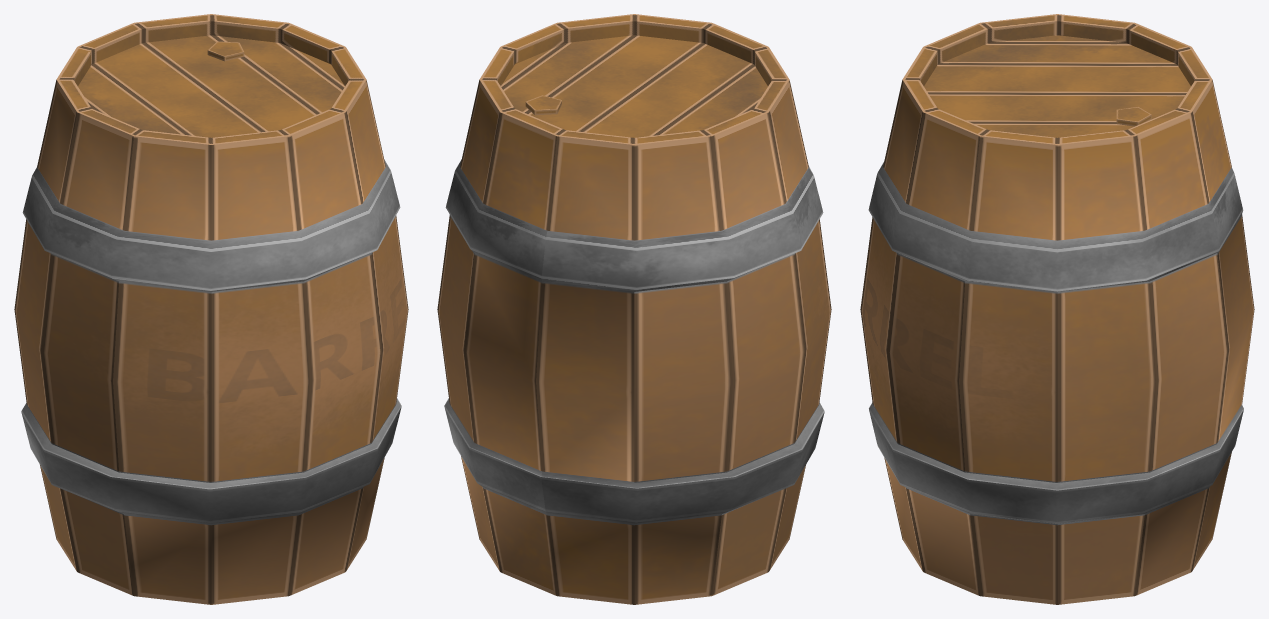
The model's file is BarrelTutorial.fbx.
3 renders of one model, left to right at view 1: azimuth 30°, elevation 25°; view 2: azimuth 150°, elevation 25°; view 3: azimuth 270°, elevation 25°, orthographic.
Visible parts, largest first — view 1: Barrel; view 2: Barrel; view 3: Barrel.
Part boxes in pixels (x1=…): Barrel: x1=14, y1=14, x2=408, y2=604; Barrel: x1=437, y1=14, x2=831, y2=604; Barrel: x1=860, y1=14, x2=1254, y2=604.
Size of the model in its own units: 69.35 by 89.3 by 69.35.
